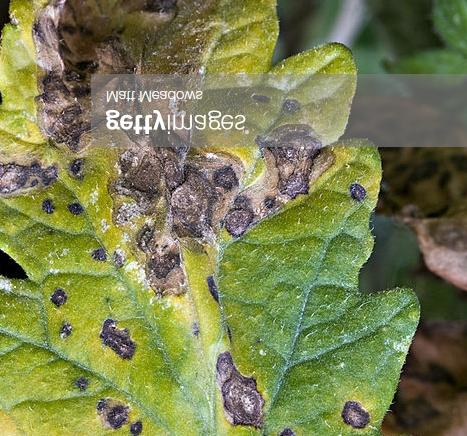Tomato Septoria leaf spot: (0, 0, 425, 436)
